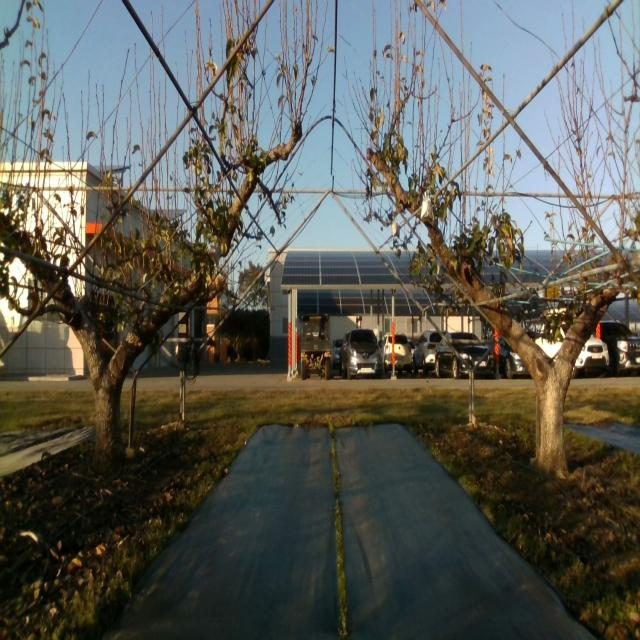pearbags: (420, 191, 435, 221), (207, 240, 221, 268)
